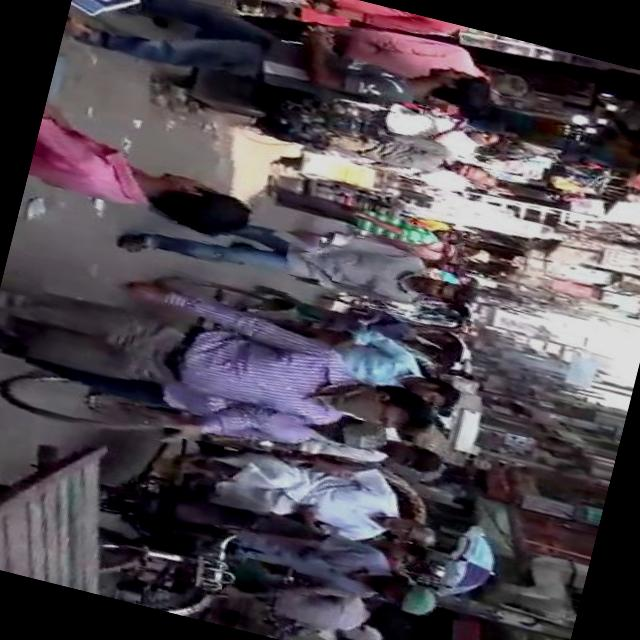motorcycle: (0, 235, 463, 516), (94, 407, 453, 640), (316, 295, 476, 376), (310, 265, 480, 338)
truck: (428, 386, 490, 458)
